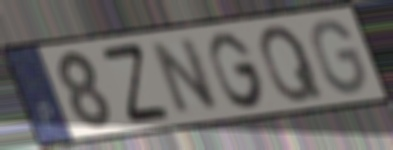8: (56, 49, 114, 131)
G: (206, 29, 268, 111), (309, 17, 368, 97)
N: (149, 35, 223, 118)
Q: (257, 22, 326, 105)
Z: (97, 40, 173, 127)
